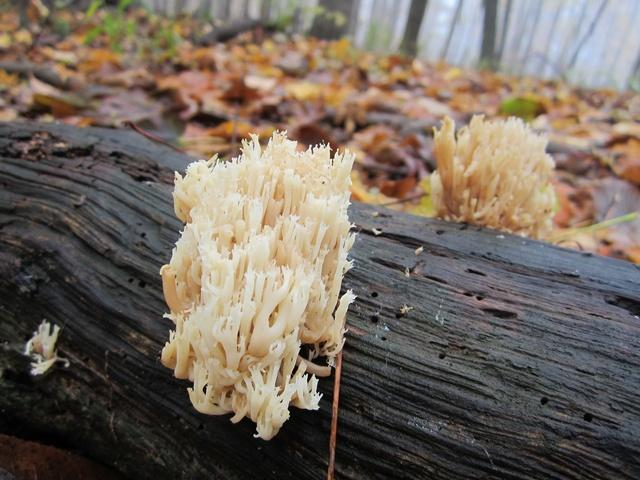Edible Mushroom: (157, 128, 358, 440), (428, 112, 558, 239)
